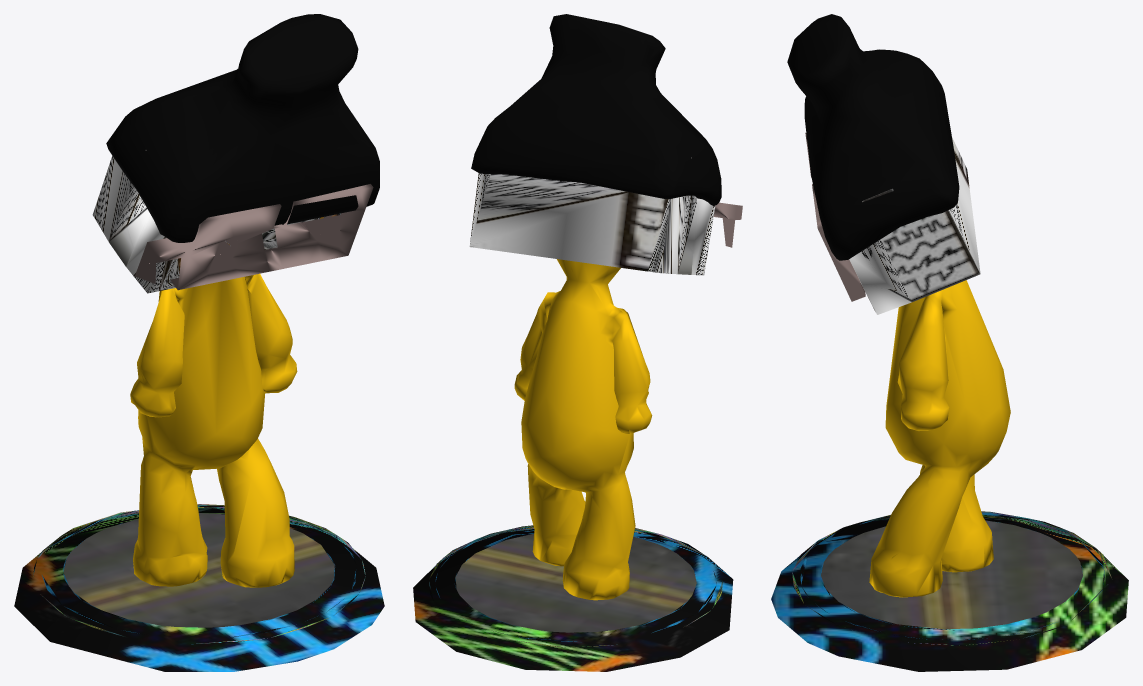
The picture shows the model from 3 angles, left to right: view 1: azimuth 30°, elevation 25°; view 2: azimuth 150°, elevation 25°; view 3: azimuth 270°, elevation 25°; orthographic projection. The views are drawn at different scales.
Bounding box in the file's own units: 1.43 × 2.58 × 1.43.
6 materials, 4 textured.
